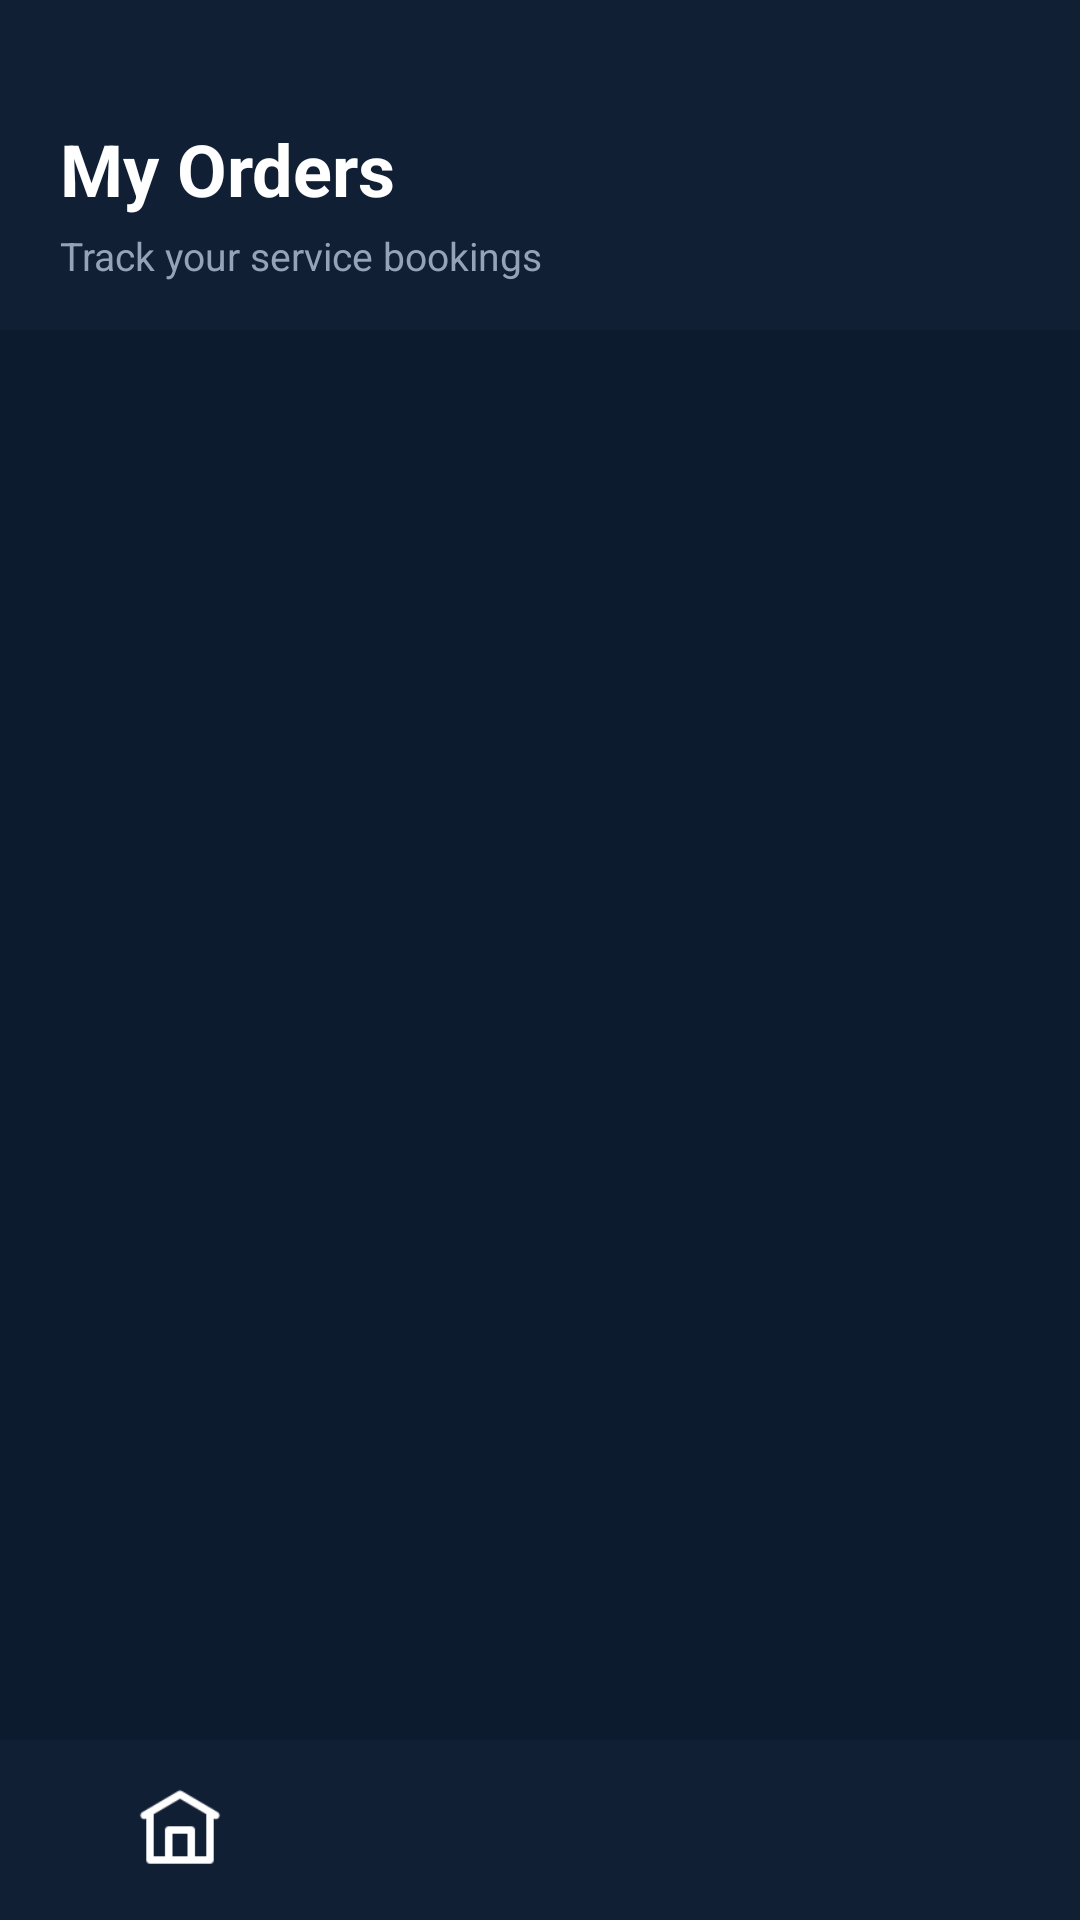

Icons on this 1080*1920 Android screen, each with its box as (x1, y1, x2, y2):
home: (140, 1790, 220, 1864)
